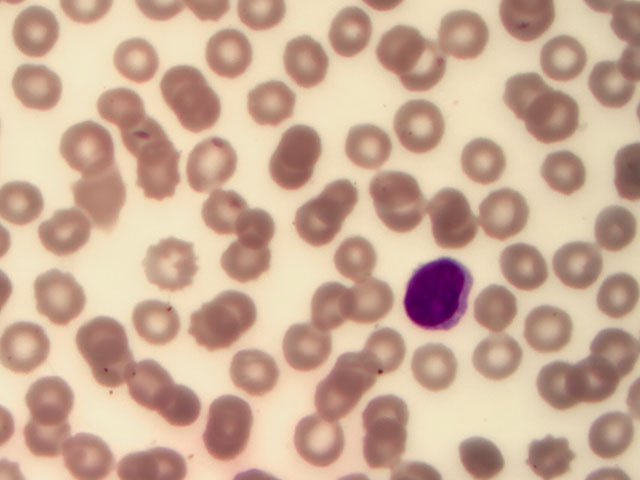RBC: (10, 6, 71, 60), (6, 56, 67, 110), (54, 122, 115, 176), (87, 86, 148, 140), (103, 33, 164, 87), (145, 57, 206, 111), (174, 86, 235, 140), (132, 138, 193, 192), (167, 130, 228, 184), (184, 176, 245, 230), (206, 187, 267, 241), (214, 233, 275, 287), (142, 239, 203, 293), (63, 165, 124, 219), (30, 203, 91, 257), (2, 180, 63, 234), (29, 261, 90, 315), (2, 325, 63, 379), (72, 312, 133, 366), (122, 295, 183, 349), (81, 350, 142, 404), (119, 357, 180, 411), (143, 380, 204, 434), (58, 426, 119, 480), (15, 412, 76, 466), (20, 373, 81, 427), (191, 415, 252, 469), (199, 395, 260, 449), (223, 344, 284, 398), (190, 303, 251, 357), (214, 282, 275, 336), (289, 282, 350, 336), (272, 316, 333, 370), (301, 370, 362, 424), (288, 408, 349, 462), (327, 343, 388, 397), (348, 328, 409, 382), (345, 276, 406, 330), (329, 232, 390, 286), (299, 203, 360, 257), (306, 177, 367, 231), (261, 145, 322, 199), (273, 118, 334, 172), (248, 74, 309, 128), (202, 24, 263, 78), (279, 36, 340, 90), (326, 8, 387, 62), (367, 19, 428, 73), (389, 40, 450, 94), (431, 15, 492, 69), (397, 94, 458, 148), (336, 120, 397, 174), (363, 169, 424, 223), (418, 172, 479, 226), (420, 197, 481, 251), (465, 185, 526, 239), (449, 128, 510, 182), (532, 93, 593, 147), (505, 76, 566, 130), (526, 34, 587, 88), (579, 53, 640, 107), (530, 149, 591, 203), (545, 235, 606, 289), (574, 197, 635, 251), (501, 239, 562, 293), (465, 282, 526, 336), (468, 329, 529, 383), (409, 342, 470, 396), (356, 426, 417, 480), (361, 390, 422, 444), (519, 300, 580, 354), (520, 358, 581, 412), (563, 353, 624, 407), (579, 324, 640, 378), (579, 415, 640, 469), (524, 426, 585, 480), (454, 426, 515, 480)
WBC: (403, 259, 474, 331)
